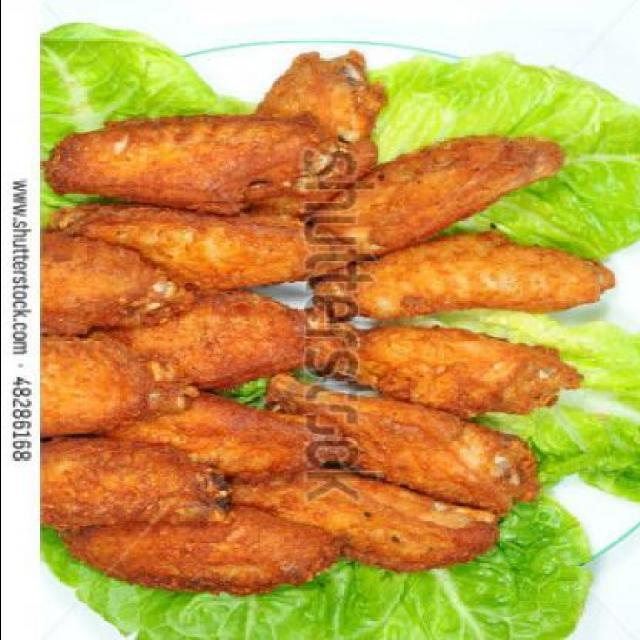Deep fried chicken wing: (52, 65, 602, 593)
